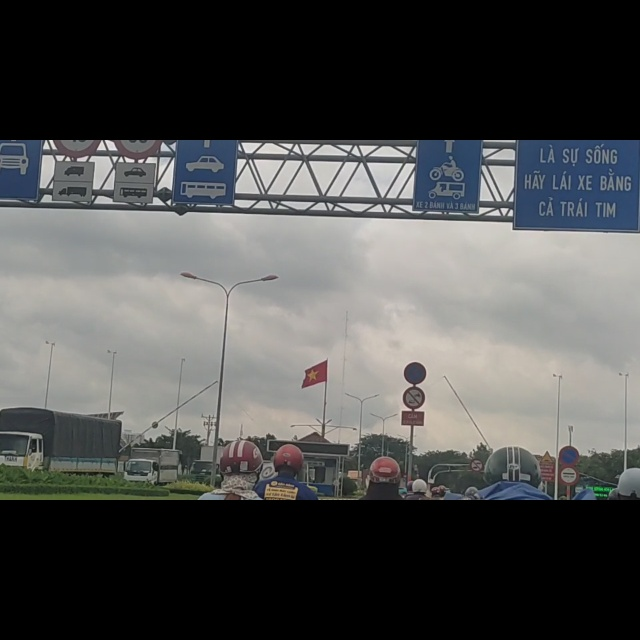bien_chi_dan: (403, 395, 427, 434), (403, 439, 426, 479), (559, 581, 579, 616), (559, 544, 579, 578), (540, 551, 554, 575), (470, 565, 483, 590)
